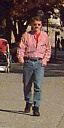person: (19, 17, 49, 123)
